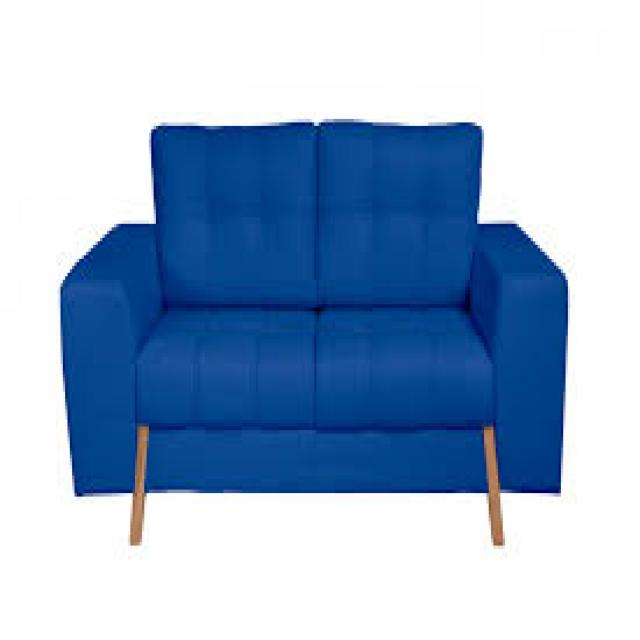Sofa: (46, 94, 607, 584)
